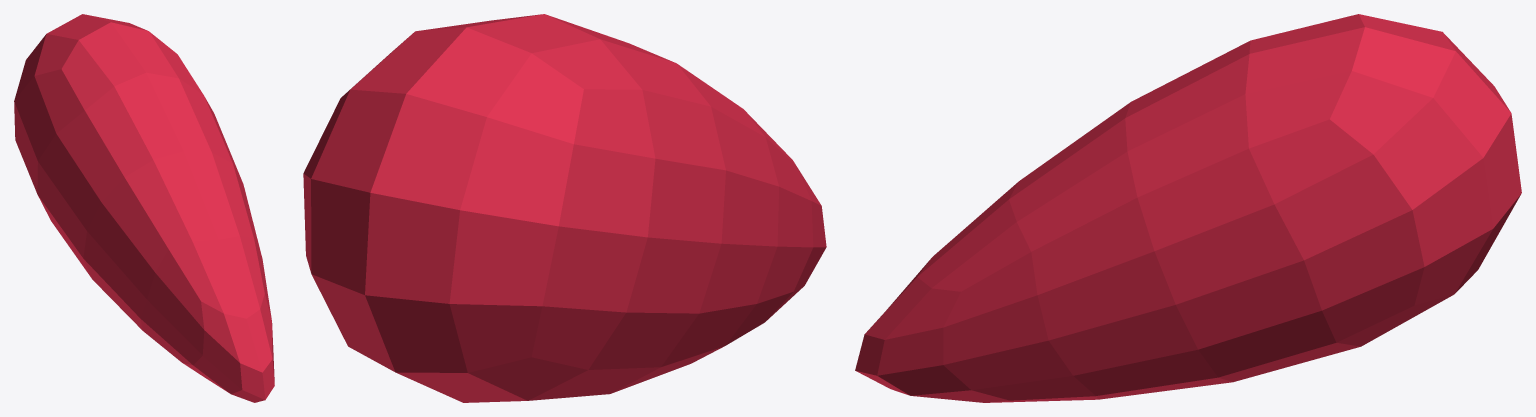
File: redOPT.fbx
3 renders of one model, left to right at view 1: azimuth 30°, elevation 25°; view 2: azimuth 150°, elevation 25°; view 3: azimuth 270°, elevation 25°, orthographic. The views are drawn at different scales.
Visible parts, largest first — view 1: Cube.002; view 2: Cube.002; view 3: Cube.002.
Part boxes in pixels (bbox=[...]): Cube.002: bbox=[14, 14, 274, 402]; Cube.002: bbox=[303, 14, 826, 402]; Cube.002: bbox=[855, 14, 1521, 402].
Bounding box in the file's own units: 74.69 × 110 × 176.
